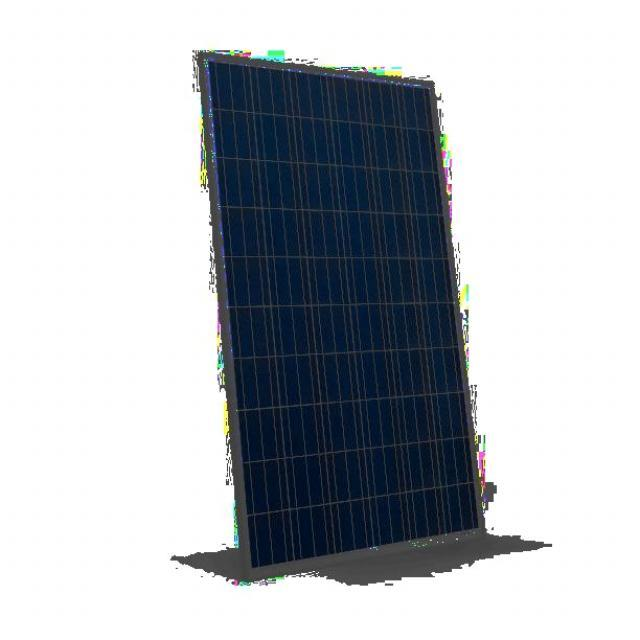no faulty: (206, 58, 492, 574)
